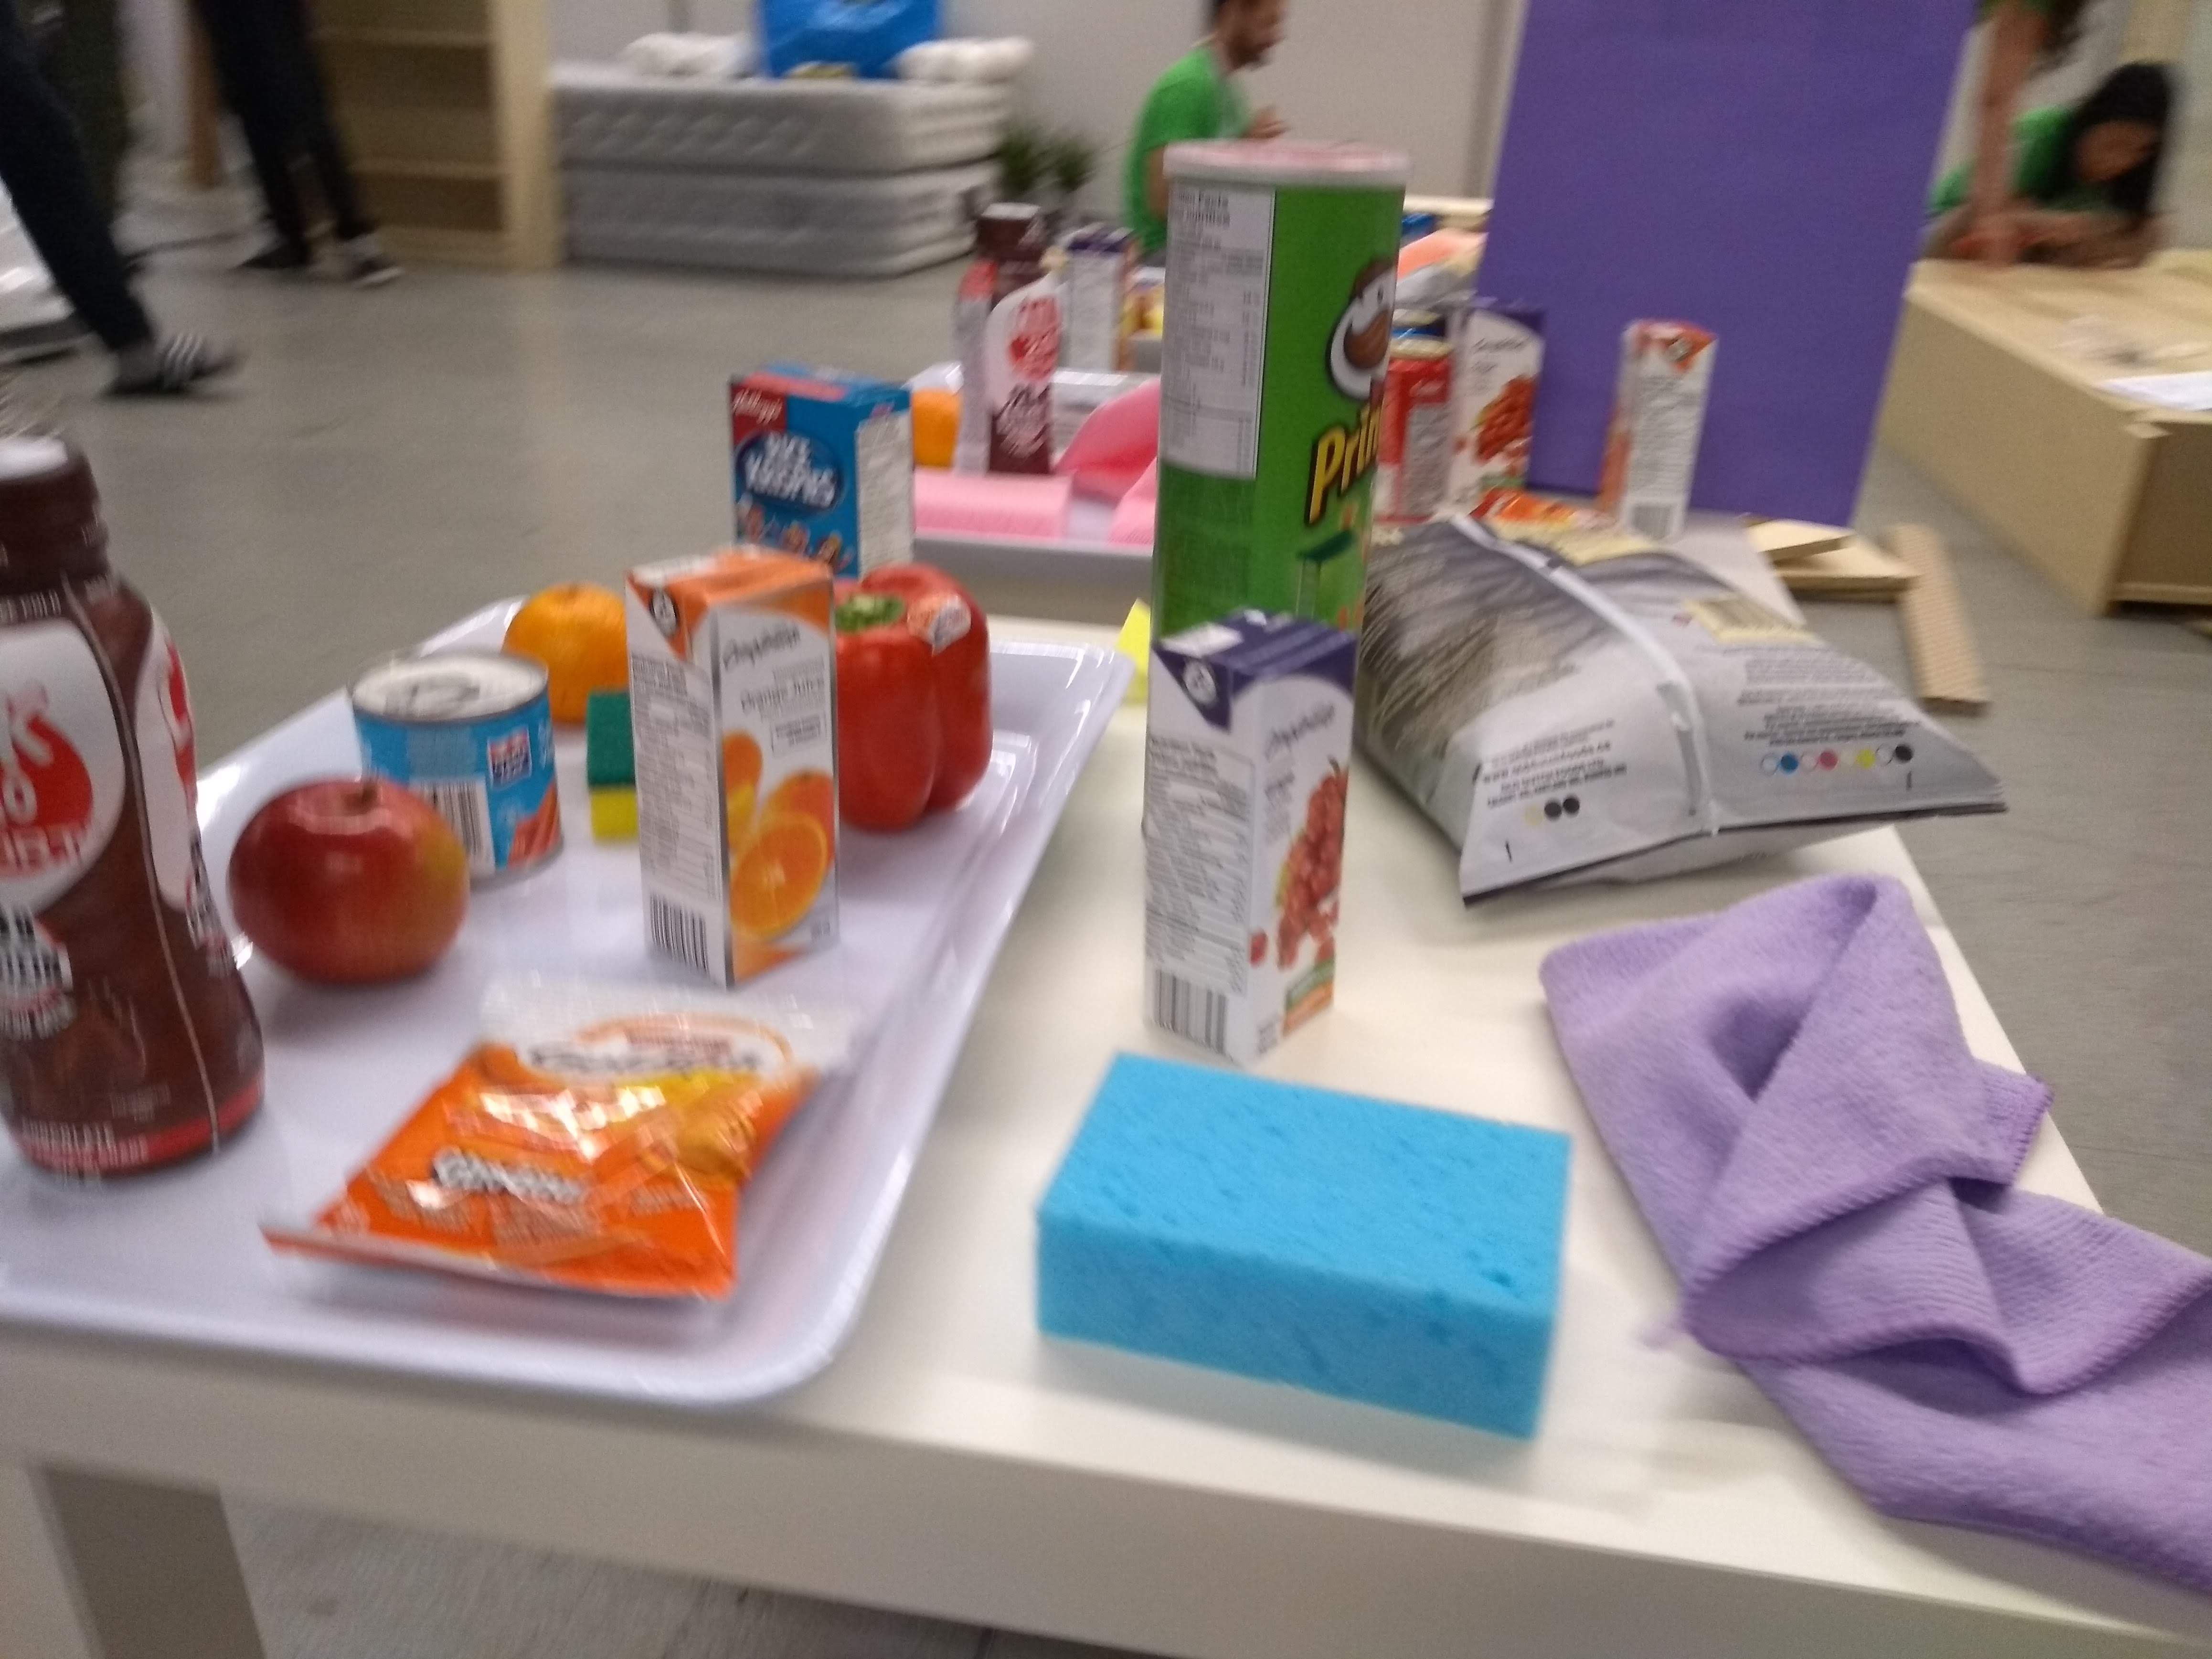apple: (216, 767, 469, 1002)
chocolate_drink: (942, 197, 1073, 481)
crackers: (253, 965, 866, 1337)
grape_juice: (1120, 594, 1364, 1066)
orange_juice: (618, 544, 846, 992)
paprika: (826, 554, 998, 843)
pringles: (1150, 132, 1413, 648)
sausages: (343, 638, 571, 908)
sponge_opl: (1019, 1042, 1585, 1453)
